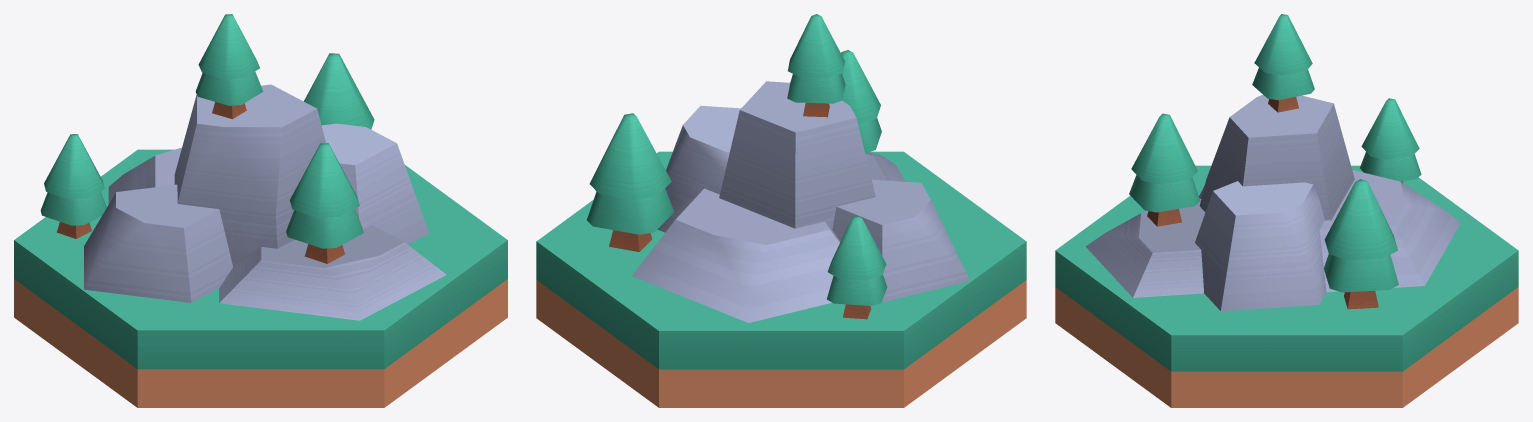
Rendered from grass-hill.glb.
3 views of the same model, side by side, from view 1: azimuth 30°, elevation 25°; view 2: azimuth 150°, elevation 25°; view 3: azimuth 270°, elevation 25° (orthographic). The views are drawn at different scales.
Visible parts, largest first — view 1: grass-hill; view 2: grass-hill; view 3: grass-hill.
Part boxes in pixels (box(x1,y1,x2,y2)): grass-hill: box(14, 14, 507, 407); grass-hill: box(536, 14, 1026, 407); grass-hill: box(1055, 14, 1518, 407).
Bounding box in the file's own units: 1 × 0.8033 × 1.15.
Materials: 1 (1 with a texture image).
